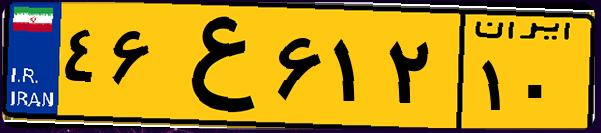0: (525, 38, 570, 115)
1: (330, 28, 385, 110), (475, 38, 525, 113)
2: (385, 28, 445, 110)
4: (57, 26, 110, 100)
6: (270, 28, 330, 110), (110, 28, 158, 98)
ع: (158, 12, 270, 120)
